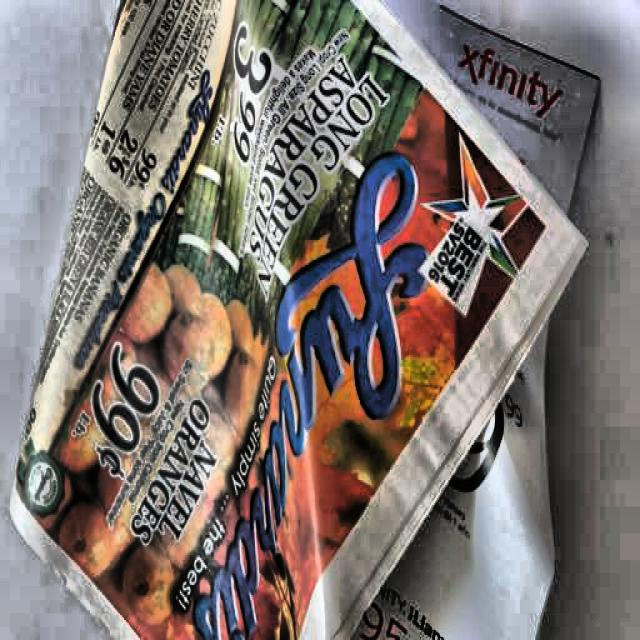paper: (22, 1, 609, 640)
